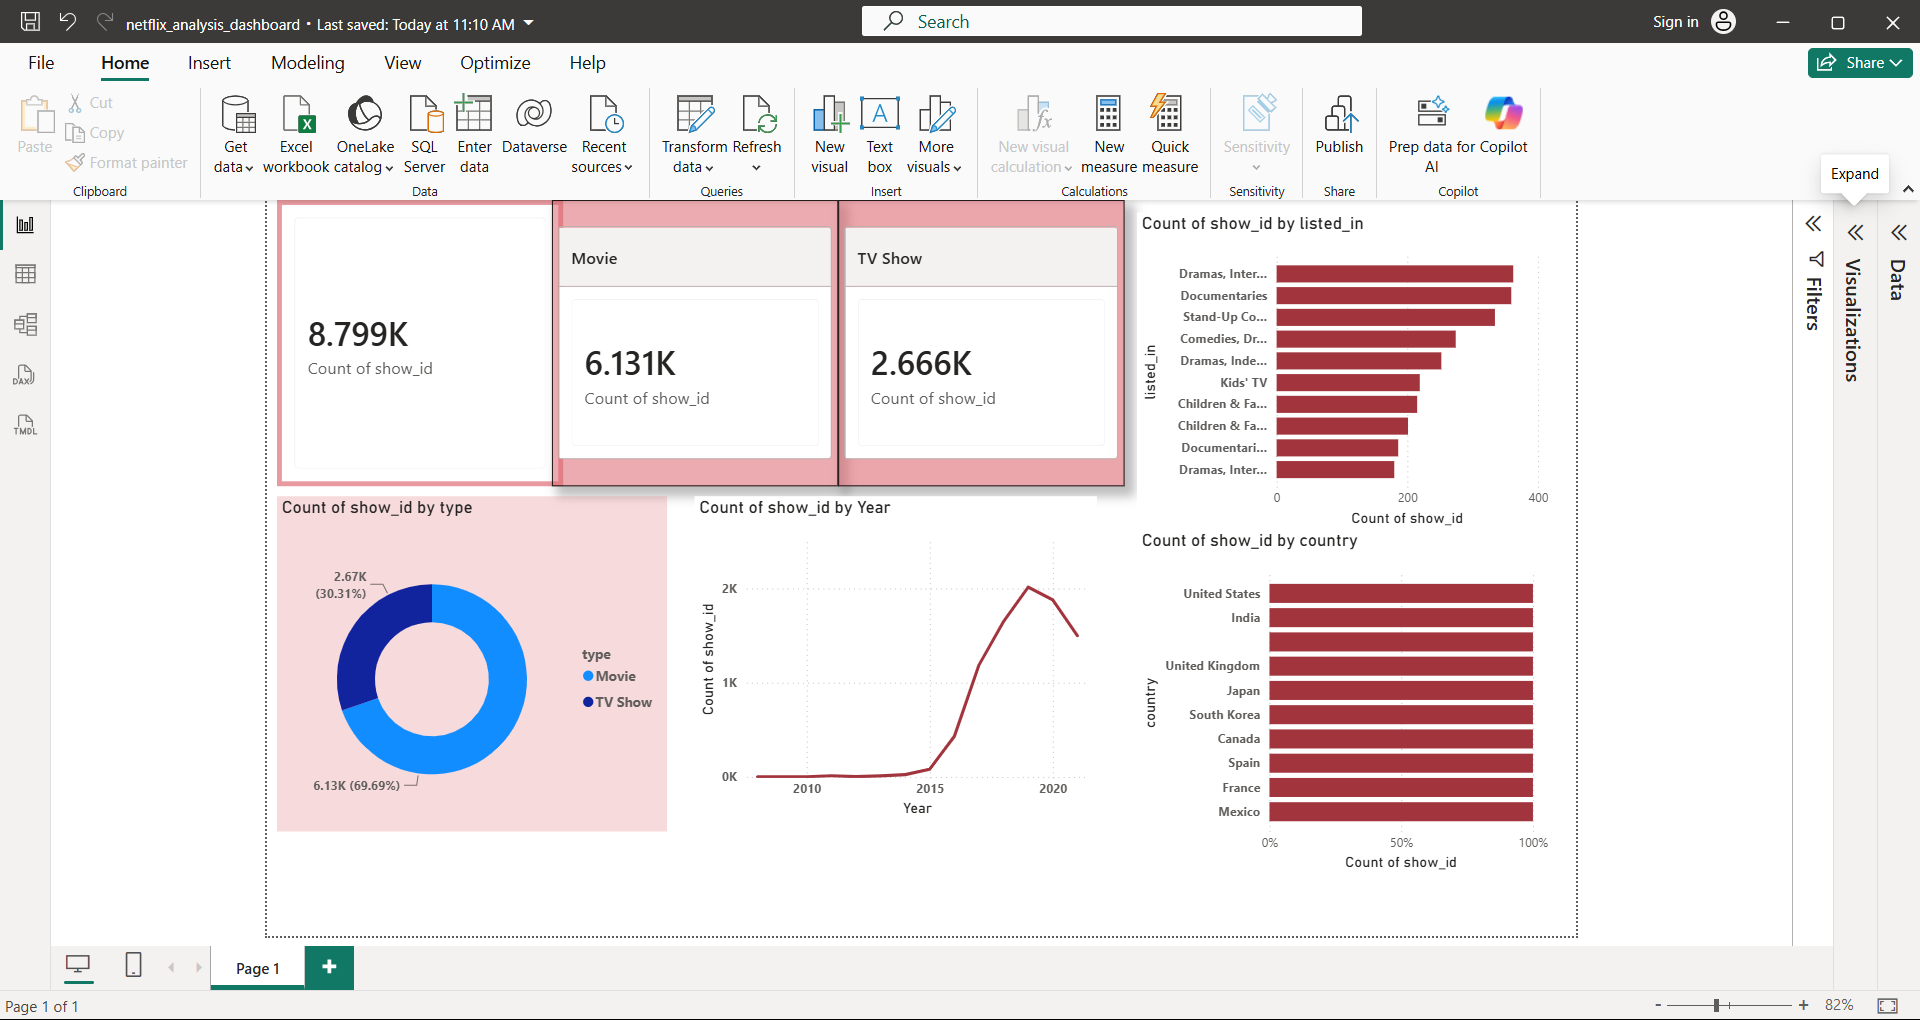

Layout of this report page (visuals, bound fields, positions):
{"tool":"powerbi","page":{"name":"Page 1","canvas":[1280,720],"ordinal":0},"visuals":[{"type":"cardVisual","fields":{"Data":["CountNonNull(netflix_dates_fixed_powerbi.show_id)"]},"box":[10,0,280,280],"z":0},{"type":"cardVisual","fields":{"Data":["CountNonNull(netflix_dates_fixed_powerbi.show_id)"],"Rows":["netflix_dates_fixed_powerbi.type"]},"box":[278.6,0,280,280],"z":1000},{"type":"cardVisual","fields":{"Data":["CountNonNull(netflix_dates_fixed_powerbi.show_id)"],"Rows":["netflix_dates_fixed_powerbi.type"]},"box":[558.5,0,280,280],"z":2000},{"type":"donutChart","fields":{"Y":["CountNonNull(netflix_dates_fixed_powerbi.show_id)"],"Category":["netflix_dates_fixed_powerbi.type"]},"box":[9.6,289.5,381.5,328],"z":3000},{"type":"lineChart","fields":{"Y":["CountNonNull(netflix_dates_fixed_powerbi.show_id)"],"Category":["netflix_dates_fixed_powerbi.date_added.Variation.Date Hierarchy.Year"]},"box":[418.5,289.5,393.8,318.4],"z":4000},{"type":"clusteredBarChart","fields":{"Y":["CountNonNull(netflix_dates_fixed_powerbi.show_id)"],"Category":["netflix_dates_fixed_powerbi.listed_in"]},"box":[850.8,12.3,407.5,311.5],"z":5000},{"type":"hundredPercentStackedBarChart","fields":{"Y":["CountNonNull(netflix_dates_fixed_powerbi.show_id)"],"Category":["netflix_dates_fixed_powerbi.country"]},"box":[850.8,322.5,407.5,337.6],"z":6000}]}

Visuals, with their boxes on the page's 1280x720 design canvas (x1, y1, x2, y2). These are canvas units, not pixel positions in the 1920x1020 screenshot, which may show the page scaled, cropped or inside an application window:
cardVisual - CountNonNull(netflix_dates_fixed_powerbi.show_id): 10:0:290:280
cardVisual - CountNonNull(netflix_dates_fixed_powerbi.show_id) x netflix_dates_fixed_powerbi.type: 279:0:559:280
cardVisual - CountNonNull(netflix_dates_fixed_powerbi.show_id) x netflix_dates_fixed_powerbi.type: 558:0:838:280
donutChart - CountNonNull(netflix_dates_fixed_powerbi.show_id) x netflix_dates_fixed_powerbi.type: 10:290:391:618
lineChart - CountNonNull(netflix_dates_fixed_powerbi.show_id) x netflix_dates_fixed_powerbi.date_added.Variation.Date Hierarchy.Year: 418:290:812:608
clusteredBarChart - CountNonNull(netflix_dates_fixed_powerbi.show_id) x netflix_dates_fixed_powerbi.listed_in: 851:12:1258:324
hundredPercentStackedBarChart - CountNonNull(netflix_dates_fixed_powerbi.show_id) x netflix_dates_fixed_powerbi.country: 851:322:1258:660
